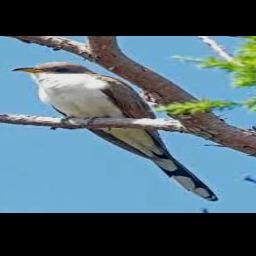Cuckoo: (14, 62, 219, 201)
